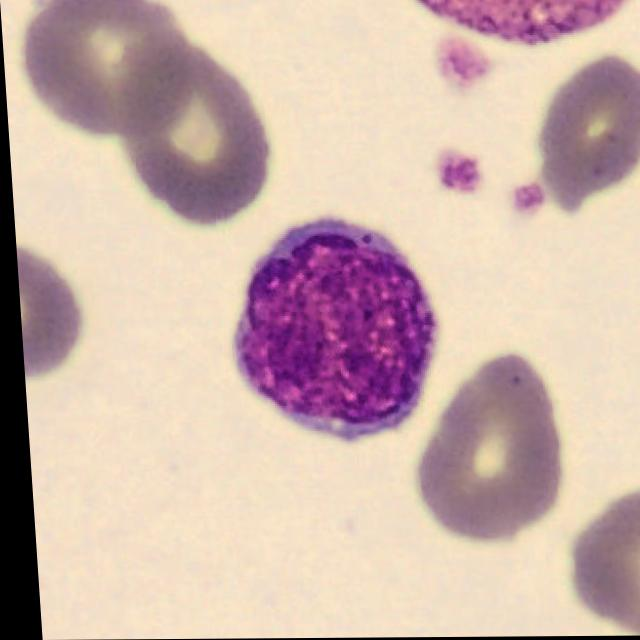Linfocito: (230, 219, 432, 441)
